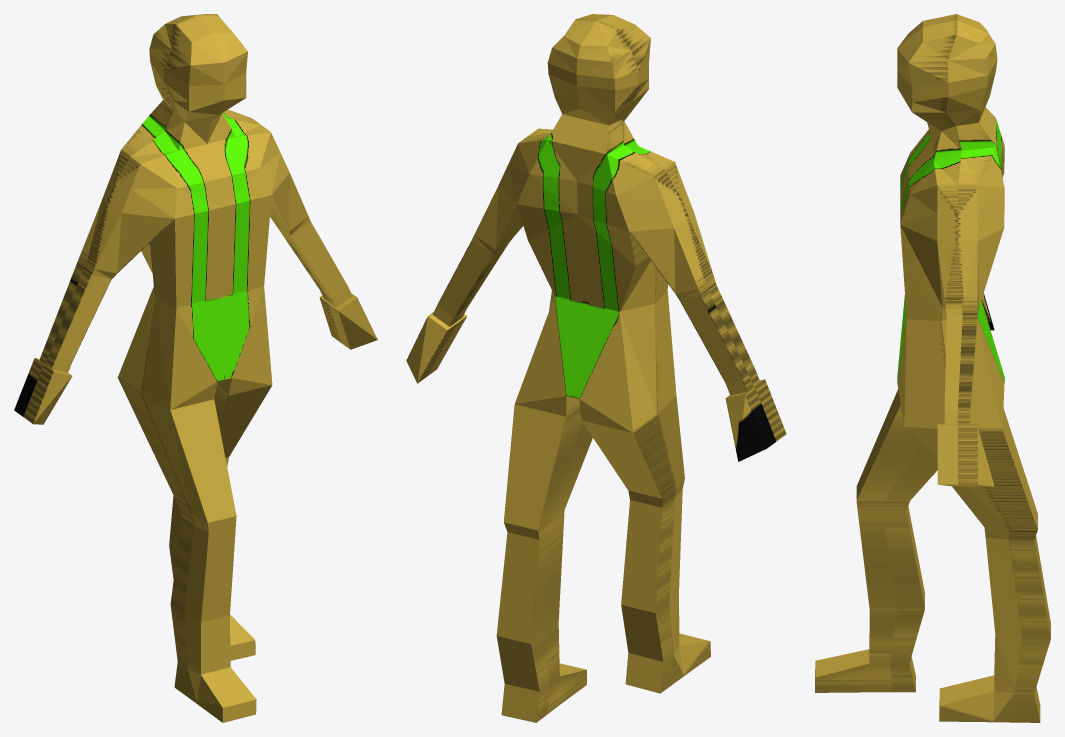
3 renders of one model, left to right at view 1: azimuth 30°, elevation 25°; view 2: azimuth 150°, elevation 25°; view 3: azimuth 270°, elevation 25°, orthographic. The views are drawn at different scales.
Parts seen in each view (by area): view 1: Borat; view 2: Borat; view 3: Borat.
Boxes of the visible parts, x1,y1,x2,y2 form: Borat: (14, 14, 377, 722); Borat: (406, 14, 786, 722); Borat: (815, 14, 1050, 722).
Size of the model in its own units: 1.79 by 3.21 by 1.01.
